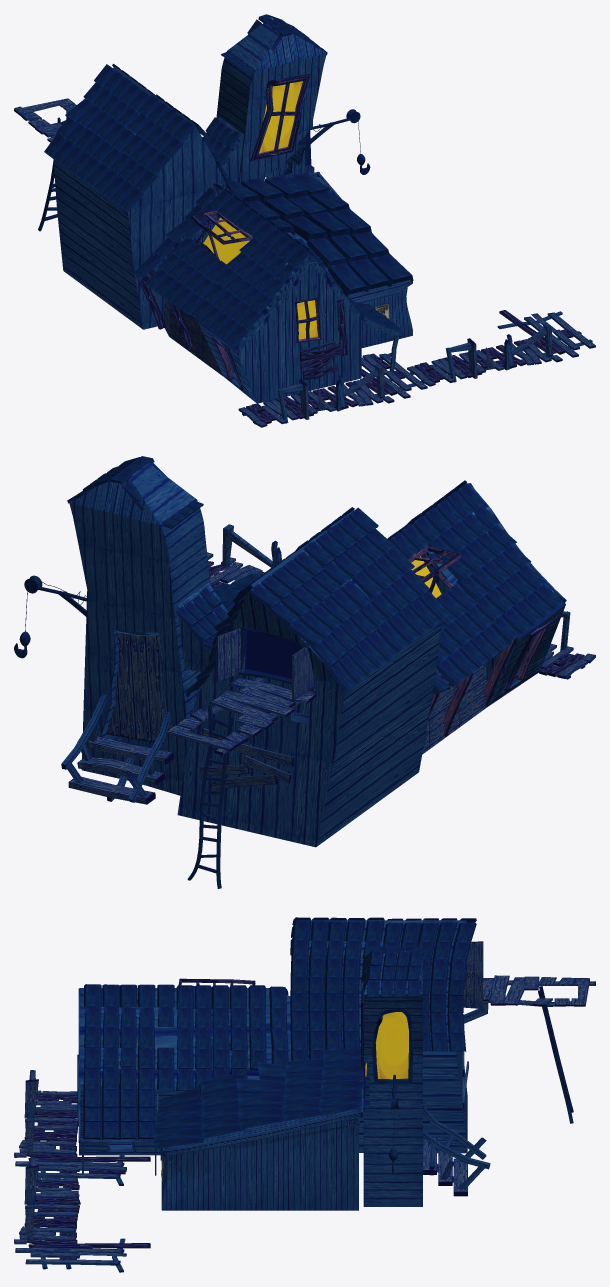
The model's file is Edificio_porto_01.glb.
3 renders of one model, top to bottom at view 1: azimuth 30°, elevation 25°; view 2: azimuth 150°, elevation 25°; view 3: azimuth 270°, elevation 25°, orthographic. The views are drawn at different scales.
Visible parts, largest first — view 1: Line063_Material #611_0, Line001_Material #605_0, Line095_Material #959_0, Box258_Material #945_0, Line092_Material #956_0, Box307_Material #77_0, Line001_Material #894_0, Line068_Material #888_0, Line001_Material #619_0, Box301_Material #195_0, Box300_Material #200_0, Box299_Material #201_0 (+12 smaller); view 2: Line063_Material #611_0, Line095_Material #959_0, Line104_Material #978_0, Line001_Material #605_0, Line001_Material #894_0, Object001_Material #990_0, Line105_Material #980_0, Line106_Material #981_0, Line107_Material #982_0, Line117_Material #991_0, Line054_Material #606_0, Line141_Material #1011_0 (+12 smaller); view 3: Box258_Material #945_0, Line095_Material #959_0, Line063_Material #611_0, Line001_Material #605_0, Box371_Material #77_0, Line084_Material #948_0, Line097_Material #1029_0, Box299_Material #201_0, Box286_Material #207_0, Object001_Material #990_0, Box267_Material #215_0, Box277_Material #216_0 (+23 smaller).
Boxes of the visible parts, box(x1,y1,x2,y2) form: Line063_Material #611_0: box(53, 66, 229, 329); Line001_Material #605_0: box(171, 189, 361, 403); Line095_Material #959_0: box(216, 21, 326, 183); Box258_Material #945_0: box(261, 176, 412, 347); Line092_Material #956_0: box(250, 74, 311, 161); Box307_Material #77_0: box(259, 81, 302, 153); Line001_Material #894_0: box(163, 250, 222, 375); Line068_Material #888_0: box(236, 256, 403, 350); Line001_Material #619_0: box(203, 217, 252, 264); Box301_Material #195_0: box(327, 263, 367, 296); Box300_Material #200_0: box(347, 258, 389, 291); Box299_Material #201_0: box(370, 253, 413, 286); Line063_Material #611_0: box(177, 510, 442, 847); Line095_Material #959_0: box(69, 463, 228, 795); Line104_Material #978_0: box(106, 631, 164, 744); Line001_Material #605_0: box(412, 483, 565, 706); Line001_Material #894_0: box(422, 664, 487, 754); Object001_Material #990_0: box(216, 628, 245, 681); Line105_Material #980_0: box(87, 736, 174, 764); Line106_Material #981_0: box(77, 757, 164, 785); Line107_Material #982_0: box(68, 776, 155, 804); Line117_Material #991_0: box(292, 647, 314, 700); Line054_Material #606_0: box(503, 621, 550, 692); Line141_Material #1011_0: box(217, 690, 294, 717); Box258_Material #945_0: box(161, 1108, 359, 1210); Line095_Material #959_0: box(363, 948, 422, 1206); Line063_Material #611_0: box(298, 920, 467, 1153); Line001_Material #605_0: box(79, 988, 291, 1155); Box371_Material #77_0: box(375, 1012, 408, 1079); Line084_Material #948_0: box(165, 1110, 361, 1155); Line097_Material #1029_0: box(372, 1009, 412, 1084); Box299_Material #201_0: box(153, 1127, 204, 1148); Box286_Material #207_0: box(238, 1107, 283, 1128); Object001_Material #990_0: box(463, 970, 482, 1008); Box267_Material #215_0: box(319, 1094, 362, 1115); Box277_Material #216_0: box(282, 1100, 325, 1121).
Bounding box in the file's own units: 12.43 × 7.86 × 16.65.
Materials: 11 (11 with a texture image).
